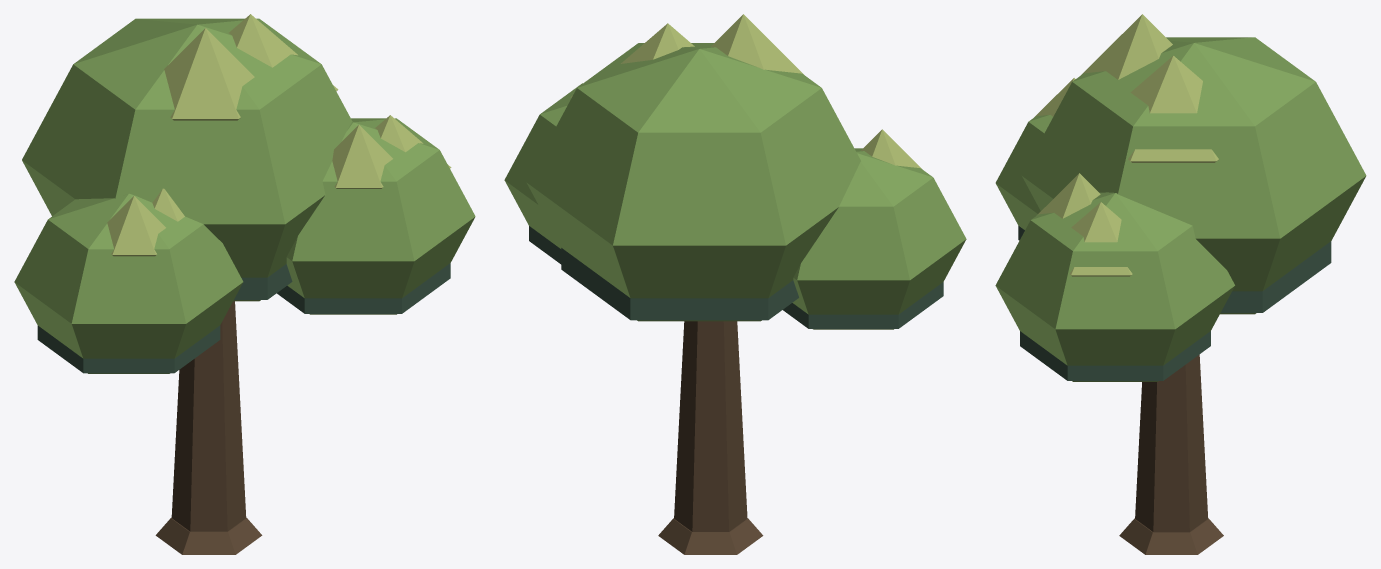
File: tree-oak.glb
3 renders of one model, left to right at view 1: azimuth 30°, elevation 25°; view 2: azimuth 150°, elevation 25°; view 3: azimuth 270°, elevation 25°, orthographic.
Parts seen in each view (by area): view 1: tree-oak; view 2: tree-oak; view 3: tree-oak.
Boxes of the visible parts, x1=… form: tree-oak: x1=14, y1=14, x2=475, y2=554; tree-oak: x1=504, y1=14, x2=966, y2=554; tree-oak: x1=995, y1=14, x2=1366, y2=554.
Bounding box in the file's own units: 6.13 × 7.55 × 4.95.
Materials: 1 (1 with a texture image).
